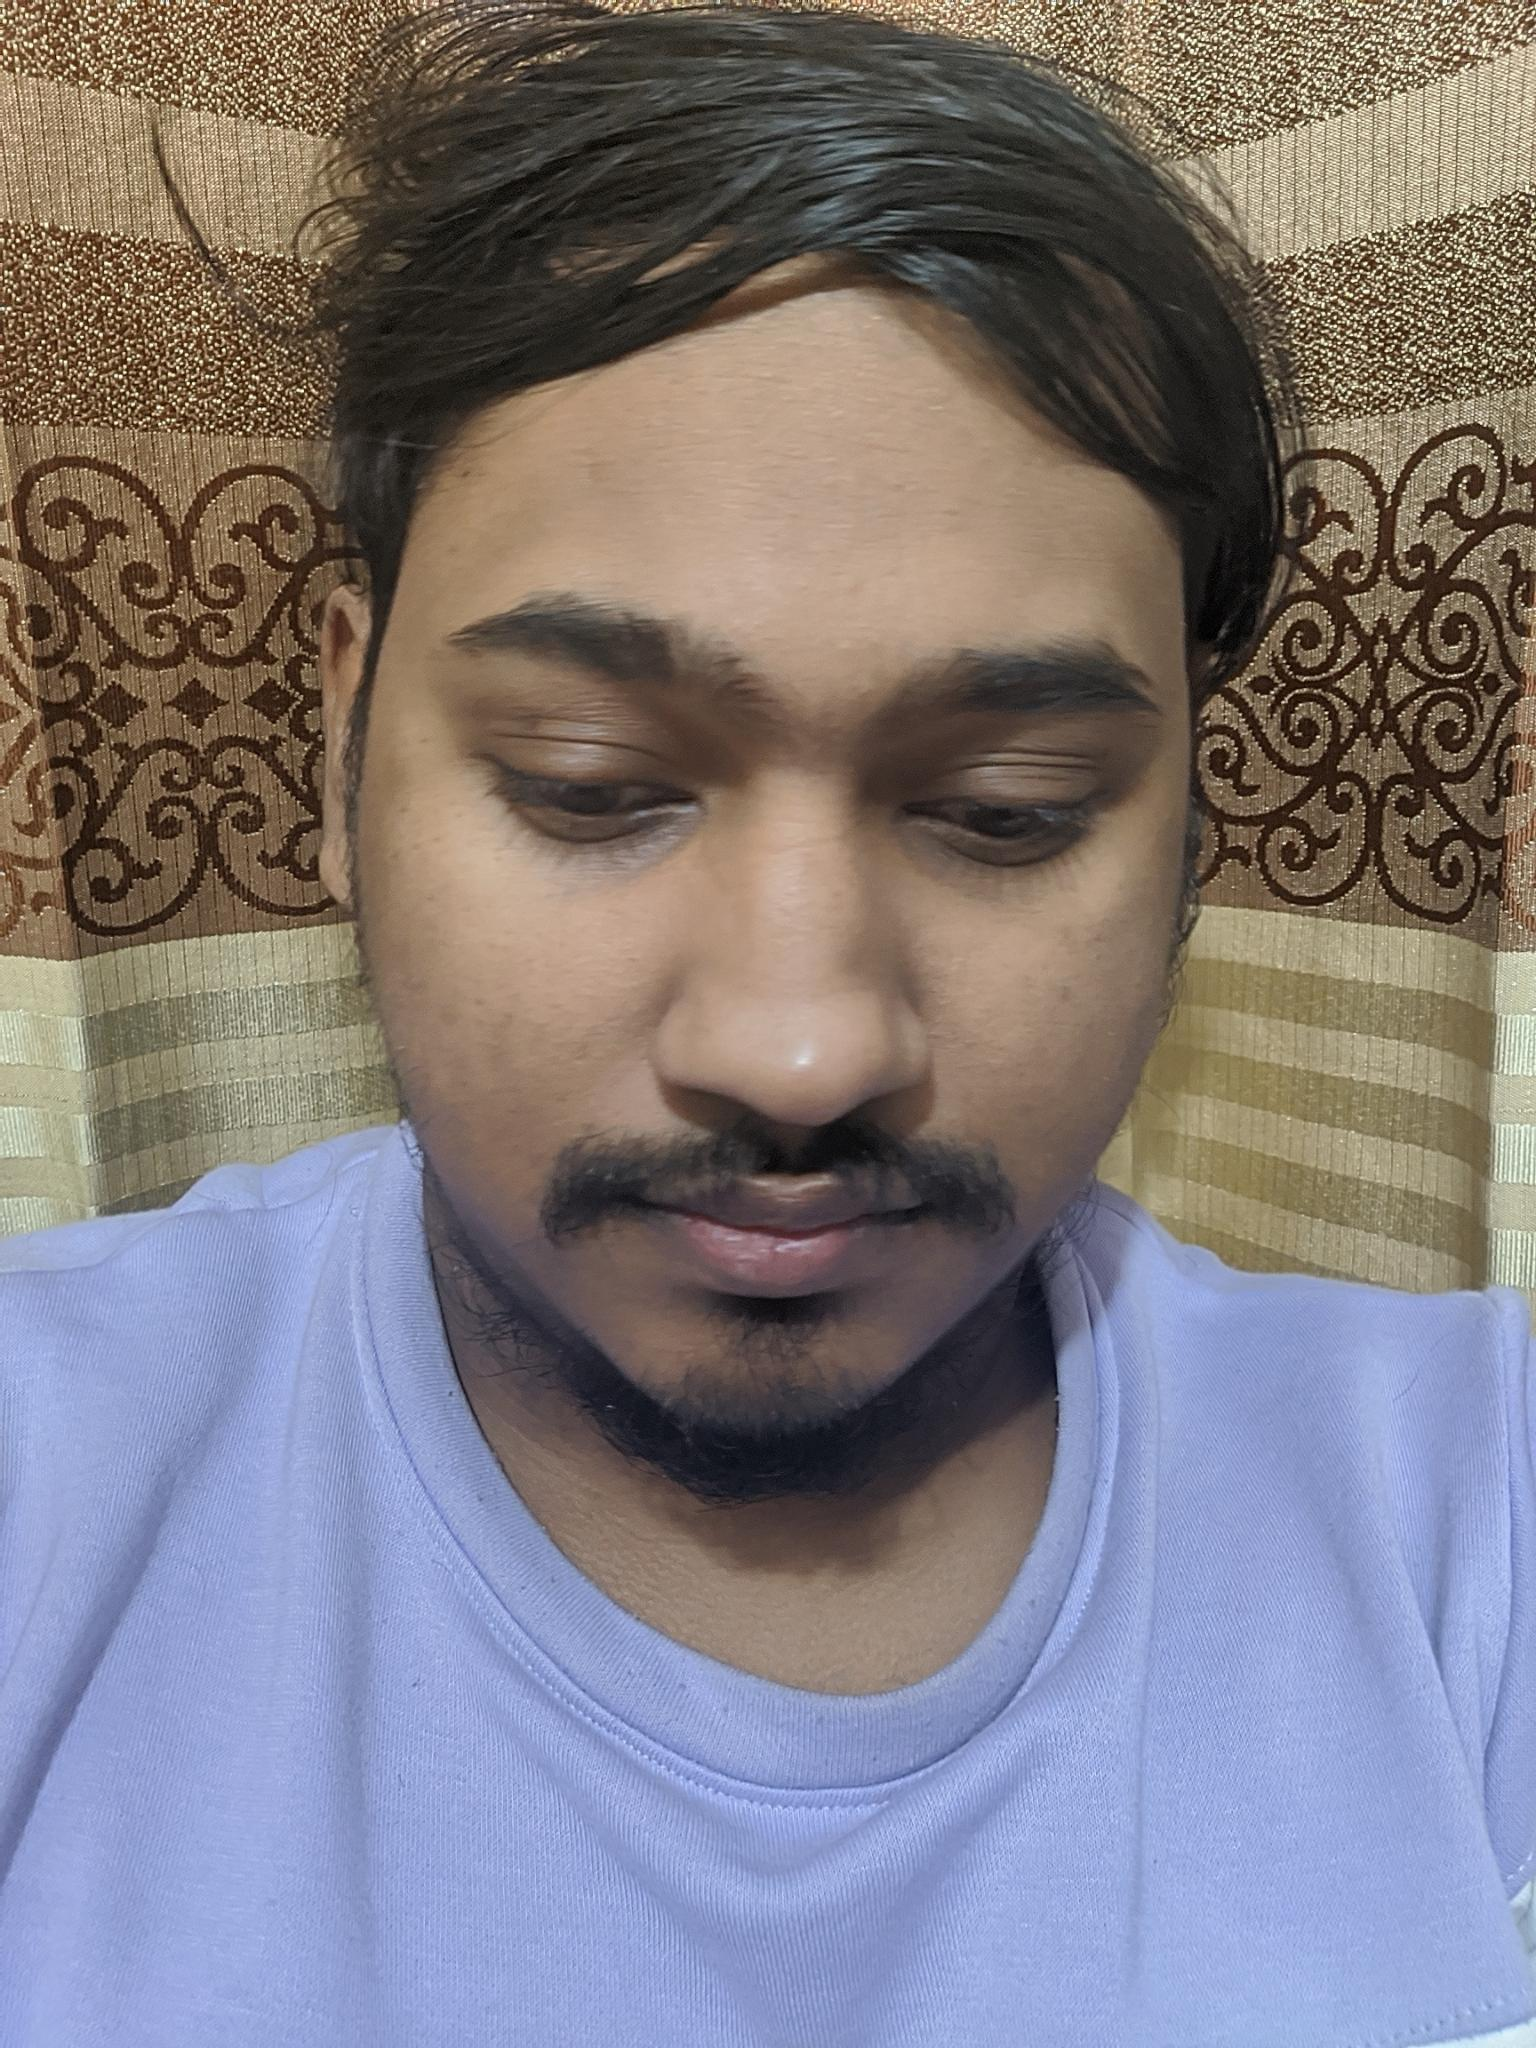Neutral: (410, 445, 1191, 1443)
